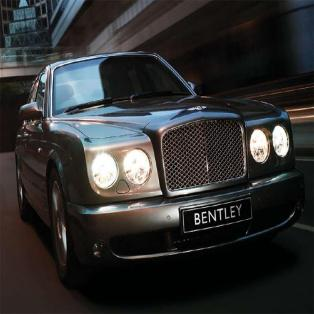Auto: (12, 50, 303, 288)
